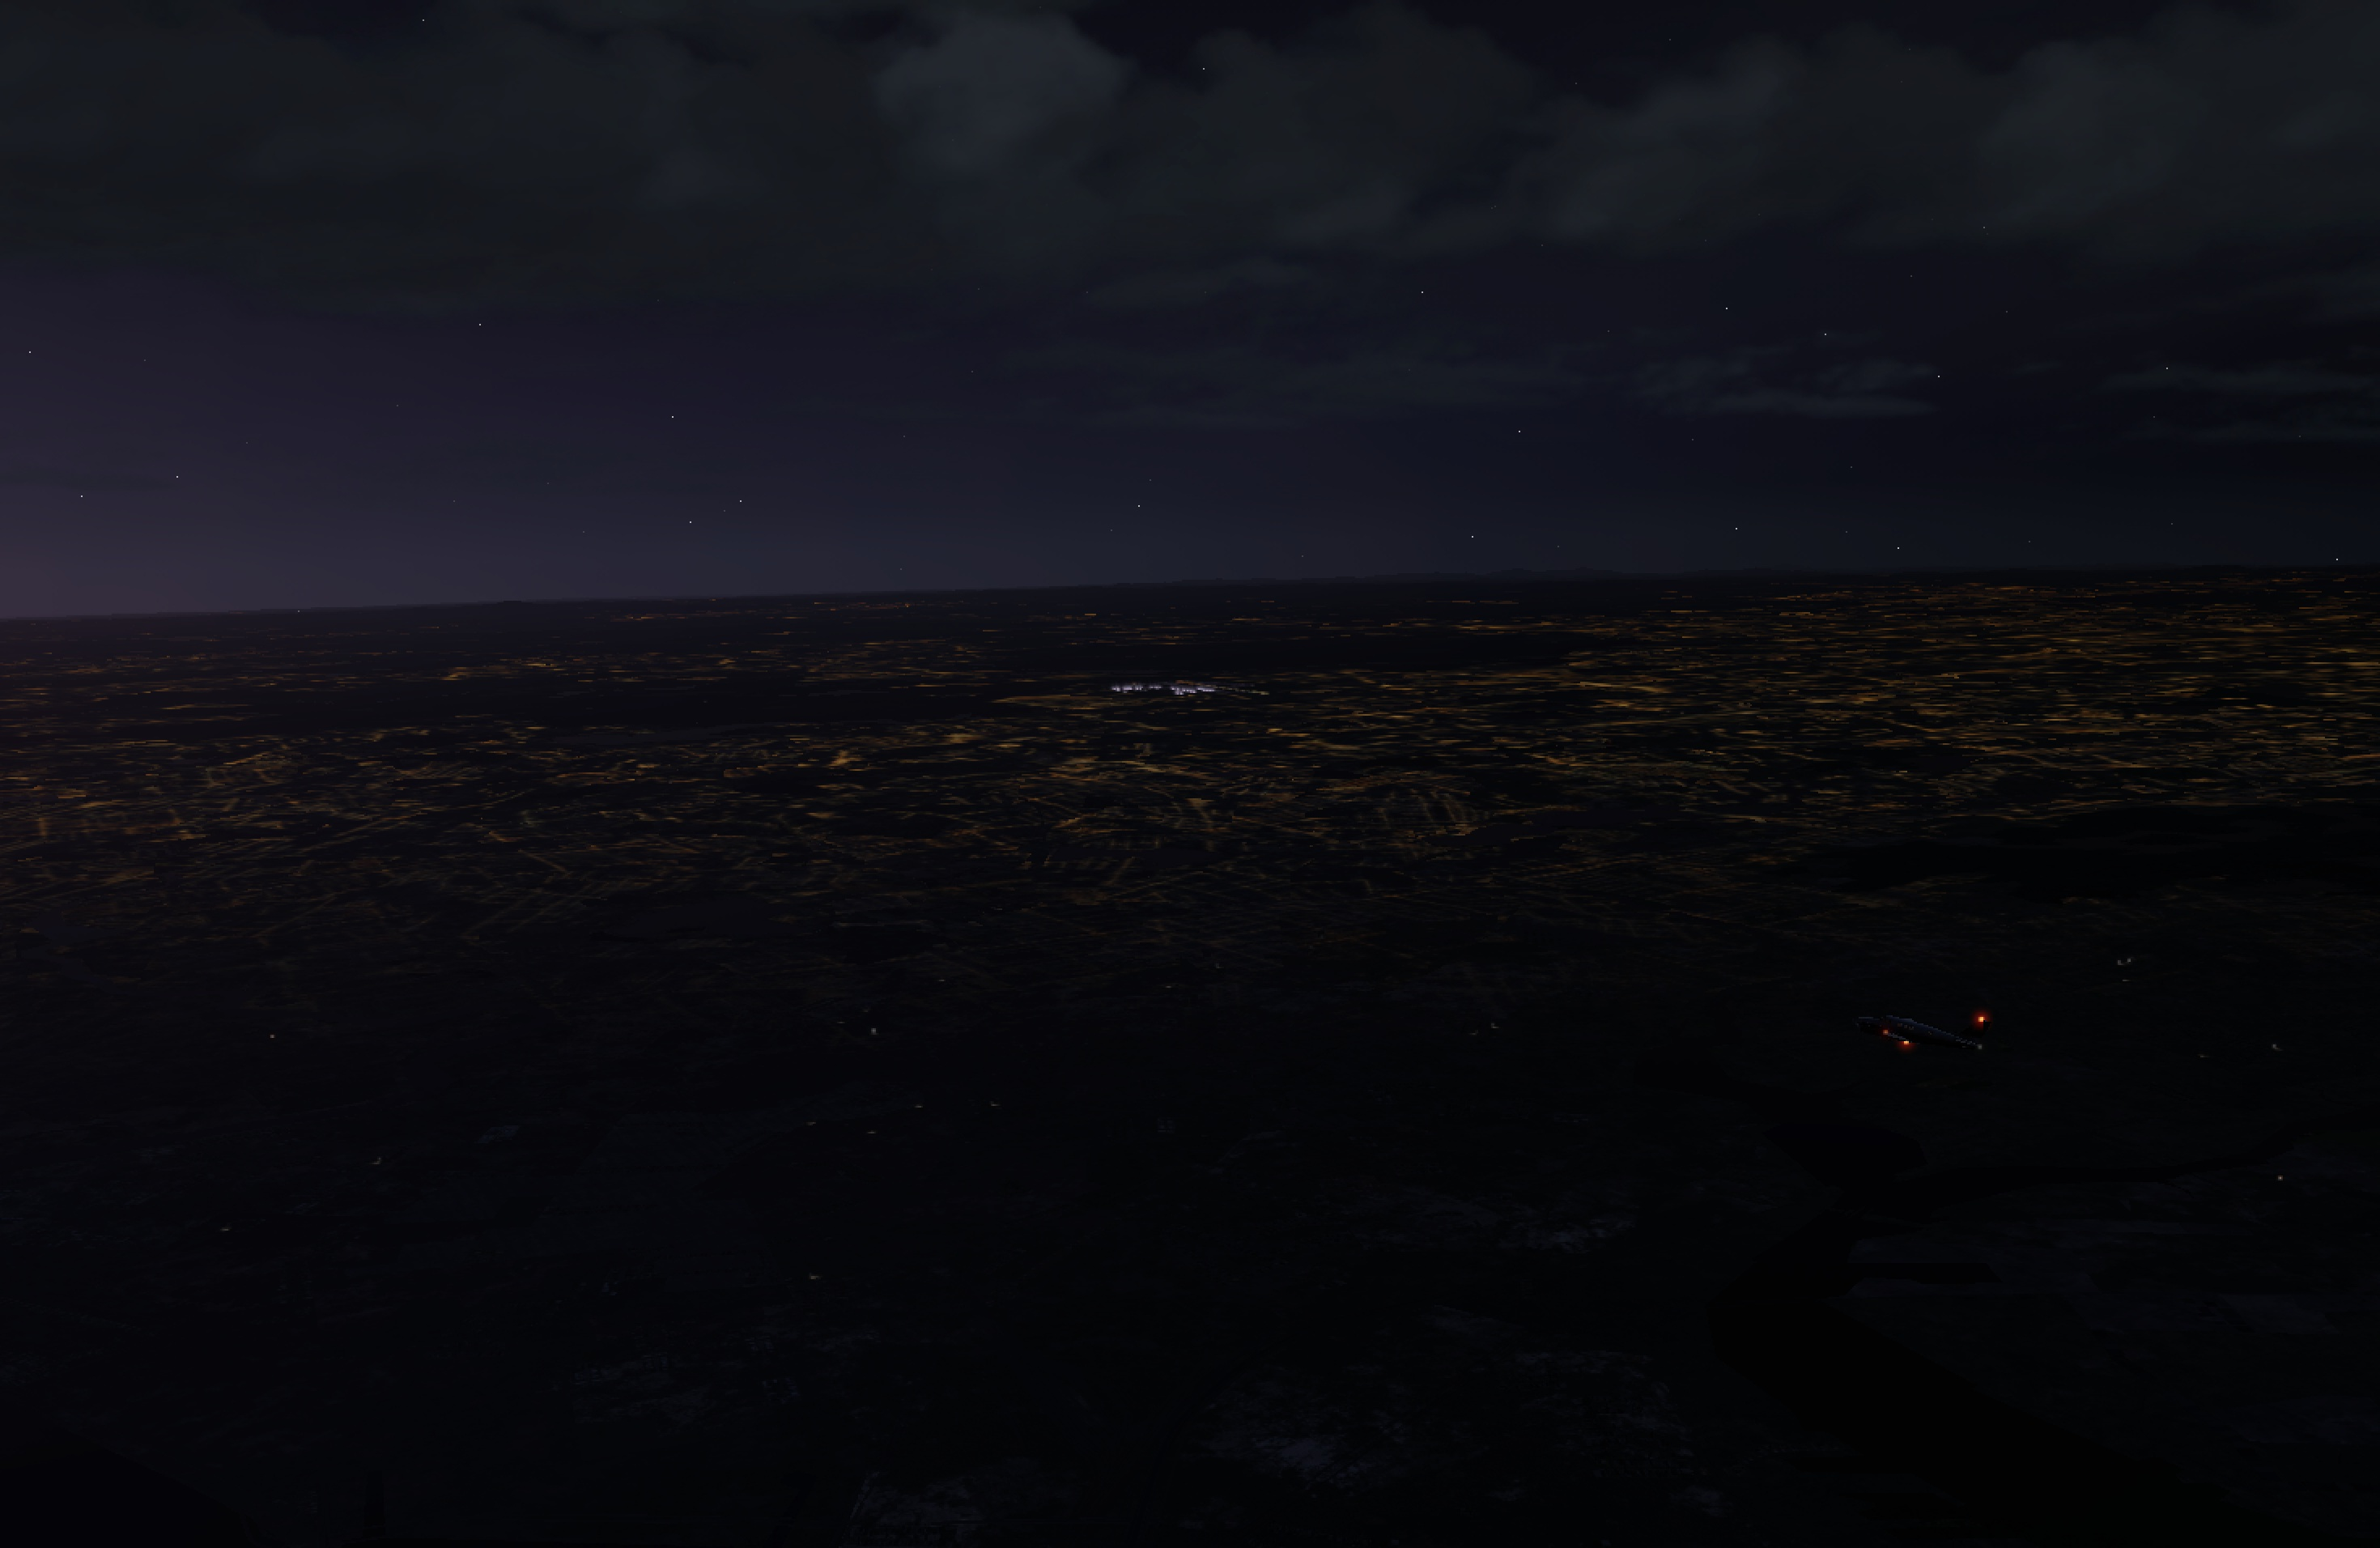aircraft: (1806, 1003, 1979, 1069)
